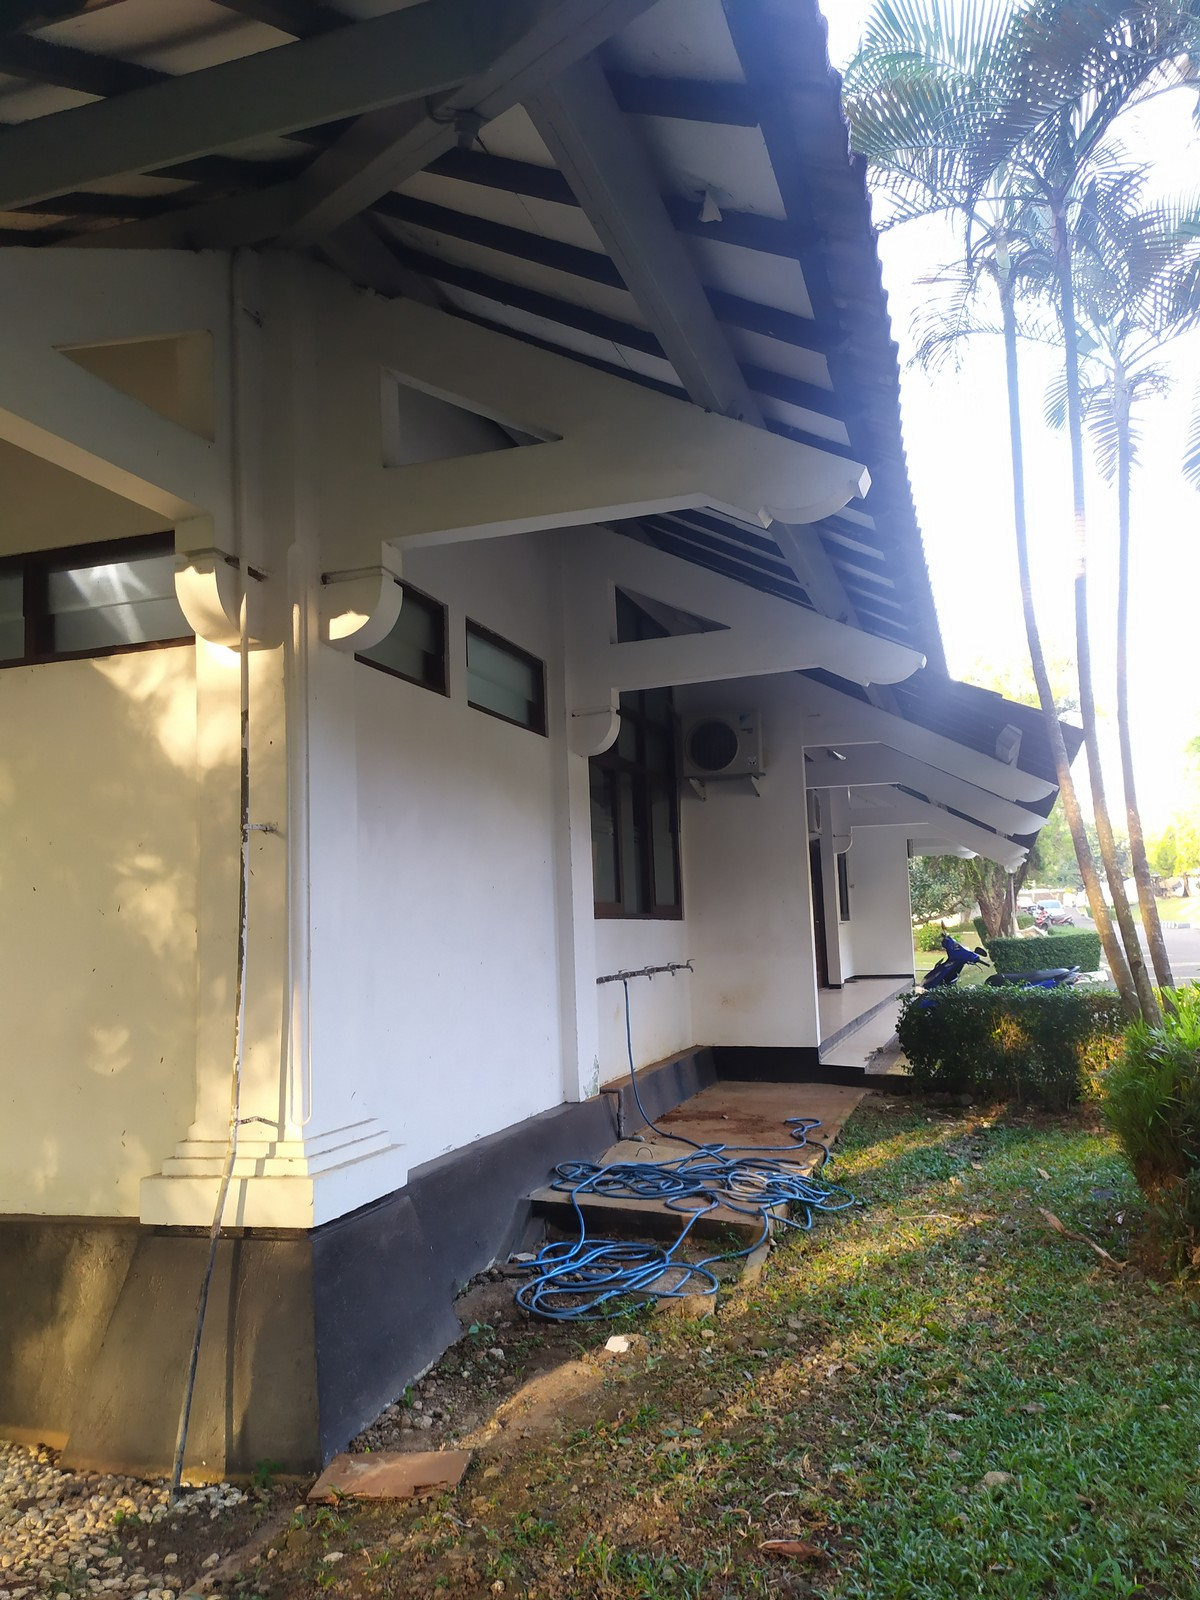concrete beam: (377, 436, 725, 556), (13, 362, 218, 520), (594, 619, 803, 698)
concrete column: (175, 639, 379, 1148), (548, 593, 610, 1110)
